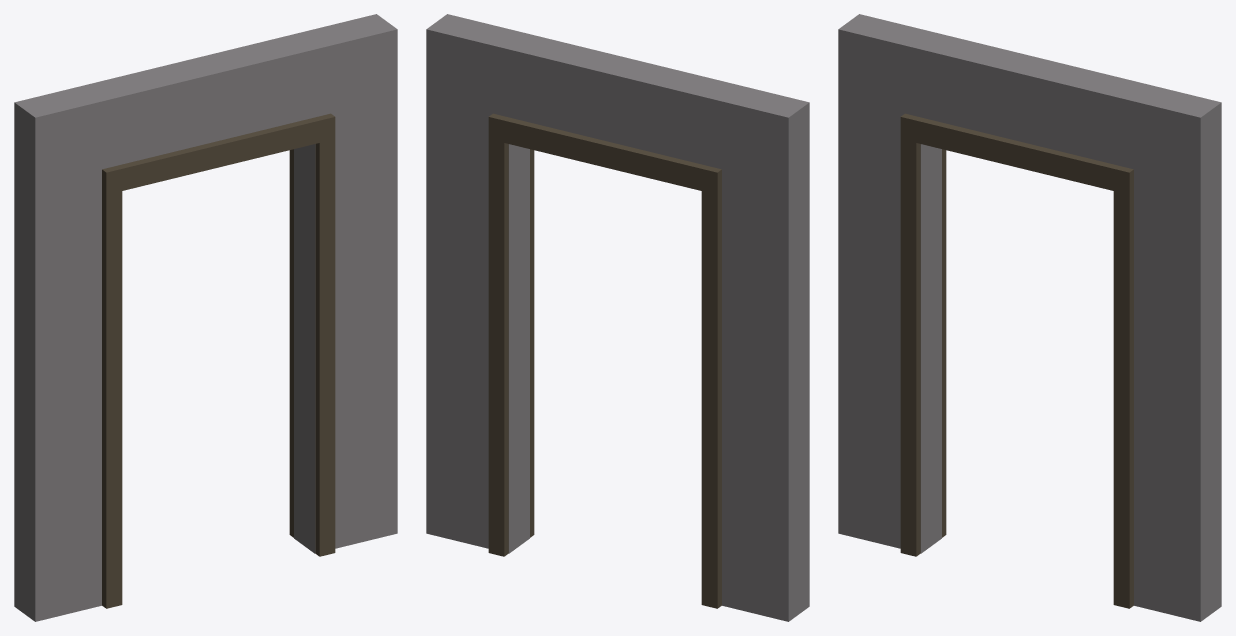
File: SM_door_way.glb
3 views of the same model, side by side, from view 1: azimuth 30°, elevation 25°; view 2: azimuth 150°, elevation 25°; view 3: azimuth 330°, elevation 25° (orthographic).
Visible parts, largest first — view 1: SM_door_way; view 2: SM_door_way; view 3: SM_door_way.
Boxes of the visible parts, bbox=[...] form: SM_door_way: bbox=[14, 14, 397, 621]; SM_door_way: bbox=[426, 14, 809, 621]; SM_door_way: bbox=[838, 14, 1221, 621].
Bounding box in the file's own units: 2 × 2.66 × 0.2858.
